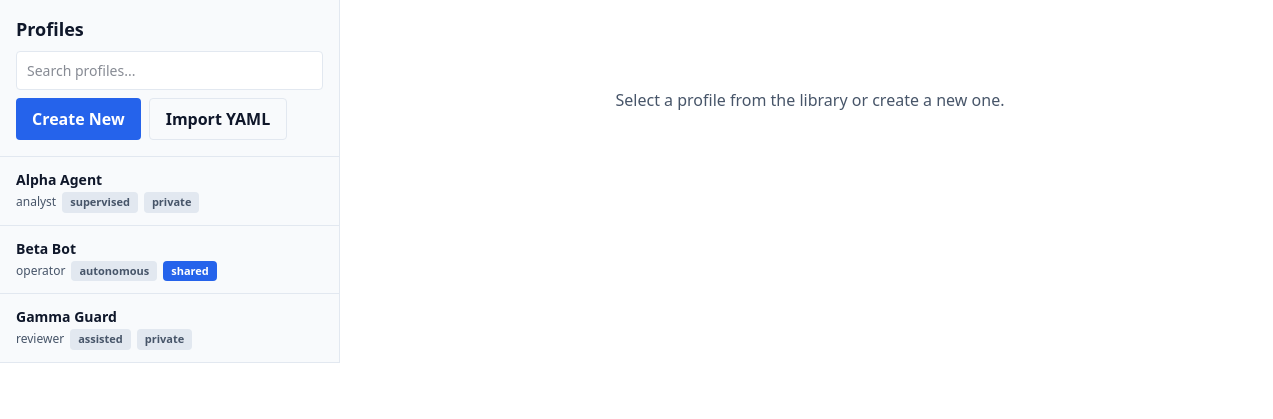
Scenario: ProfilesPage — import YAML flow › shows import dialog when Import YAML is clicked
Click the button "Import YAML".
click(218, 119)  # box [149,98,287,140]
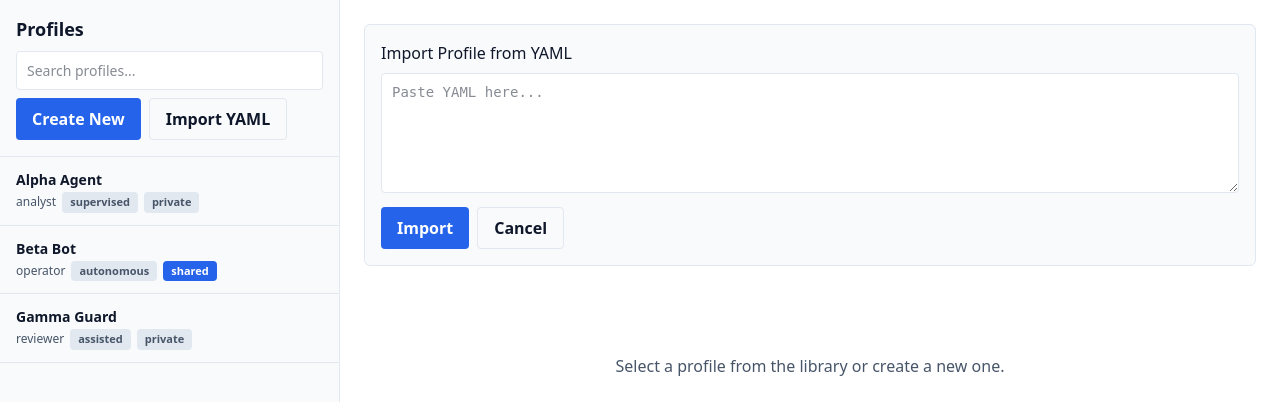
Now the heading "Import Profile from YAML" is shown, box [381,42,572,64]
Now the text box with placeholder "Paste YAML here..." is shown, box [381,73,1239,193]
